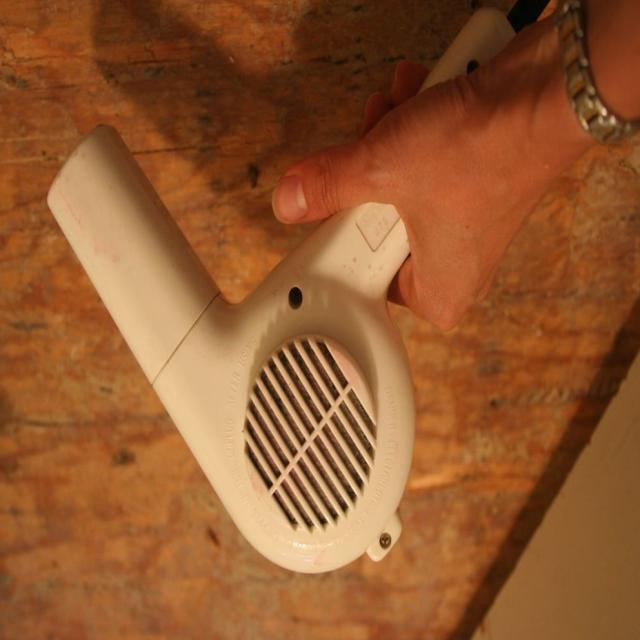dryer: (27, 80, 444, 595)
